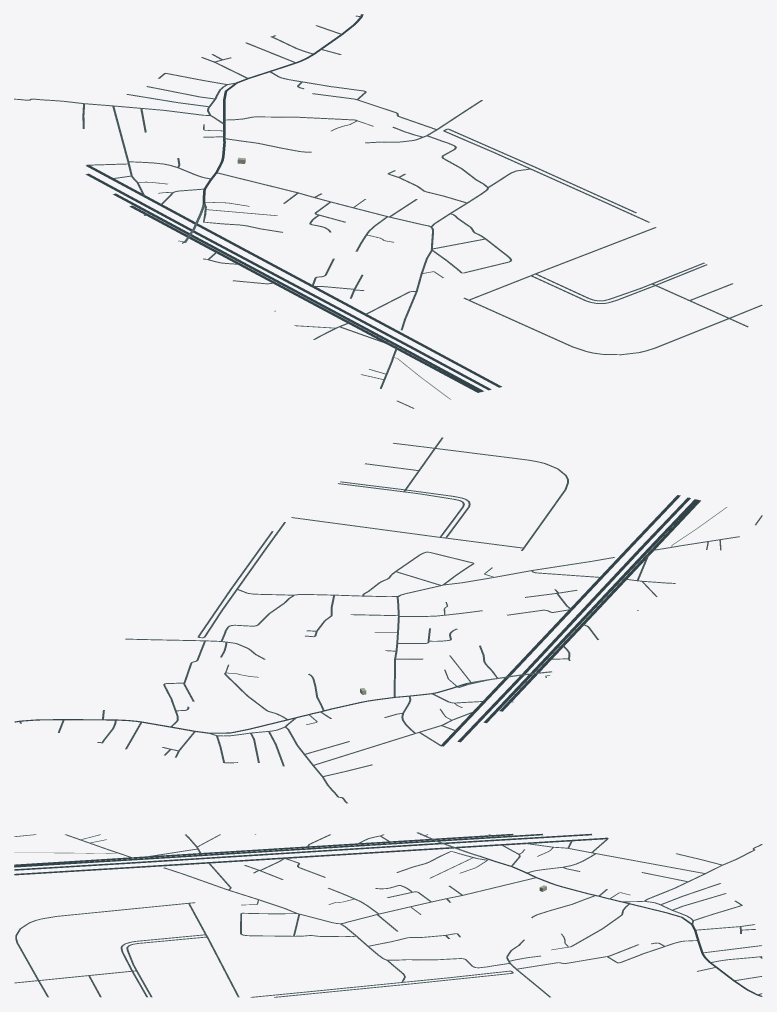
3 renders of one model, top to bottom at view 1: azimuth 30°, elevation 25°; view 2: azimuth 150°, elevation 25°; view 3: azimuth 270°, elevation 25°, orthographic. The views are drawn at different scales.
Parts seen in each view (by area): view 1: street, major; view 2: street, major; view 3: street, major.
Part boxes in pixels (x1,y1,x2,y2): street: [14, 15, 762, 408]; major: [85, 14, 501, 392]; street: [19, 437, 762, 803]; major: [14, 495, 700, 746]; street: [14, 834, 762, 997]; major: [14, 833, 762, 996].
Bounding box in the file's own units: 1038 × 10.5 × 2003.
